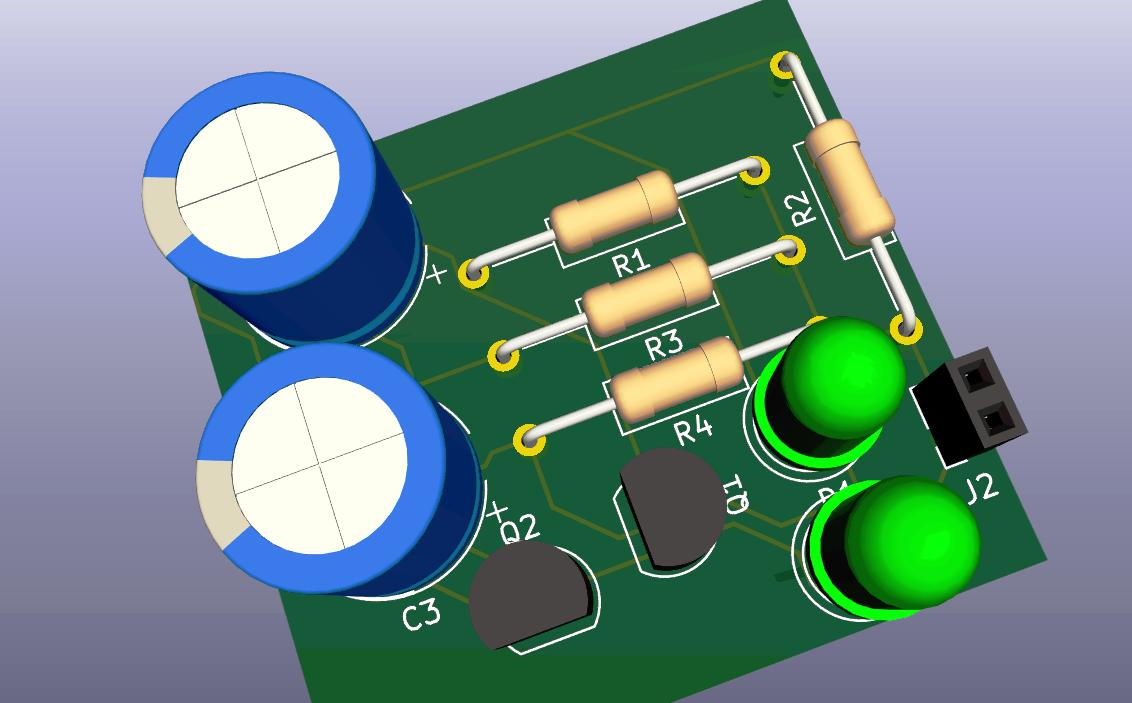capacitor: (140, 69, 436, 346), (194, 345, 485, 602)
green_led: (754, 307, 903, 488), (807, 480, 985, 614)
resistor: (569, 244, 717, 353), (543, 155, 691, 264), (604, 330, 751, 439), (800, 109, 898, 263)
transistor: (477, 529, 602, 661), (613, 445, 738, 576)
